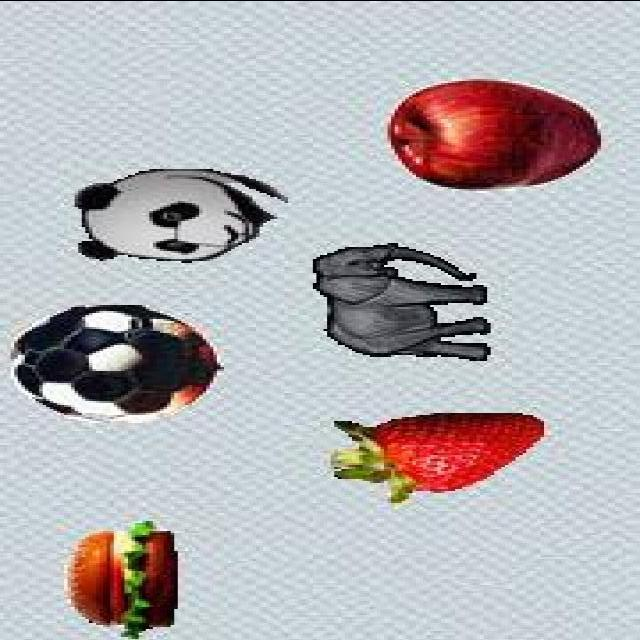Other Objects: (385, 78, 600, 191), (64, 520, 178, 638)
